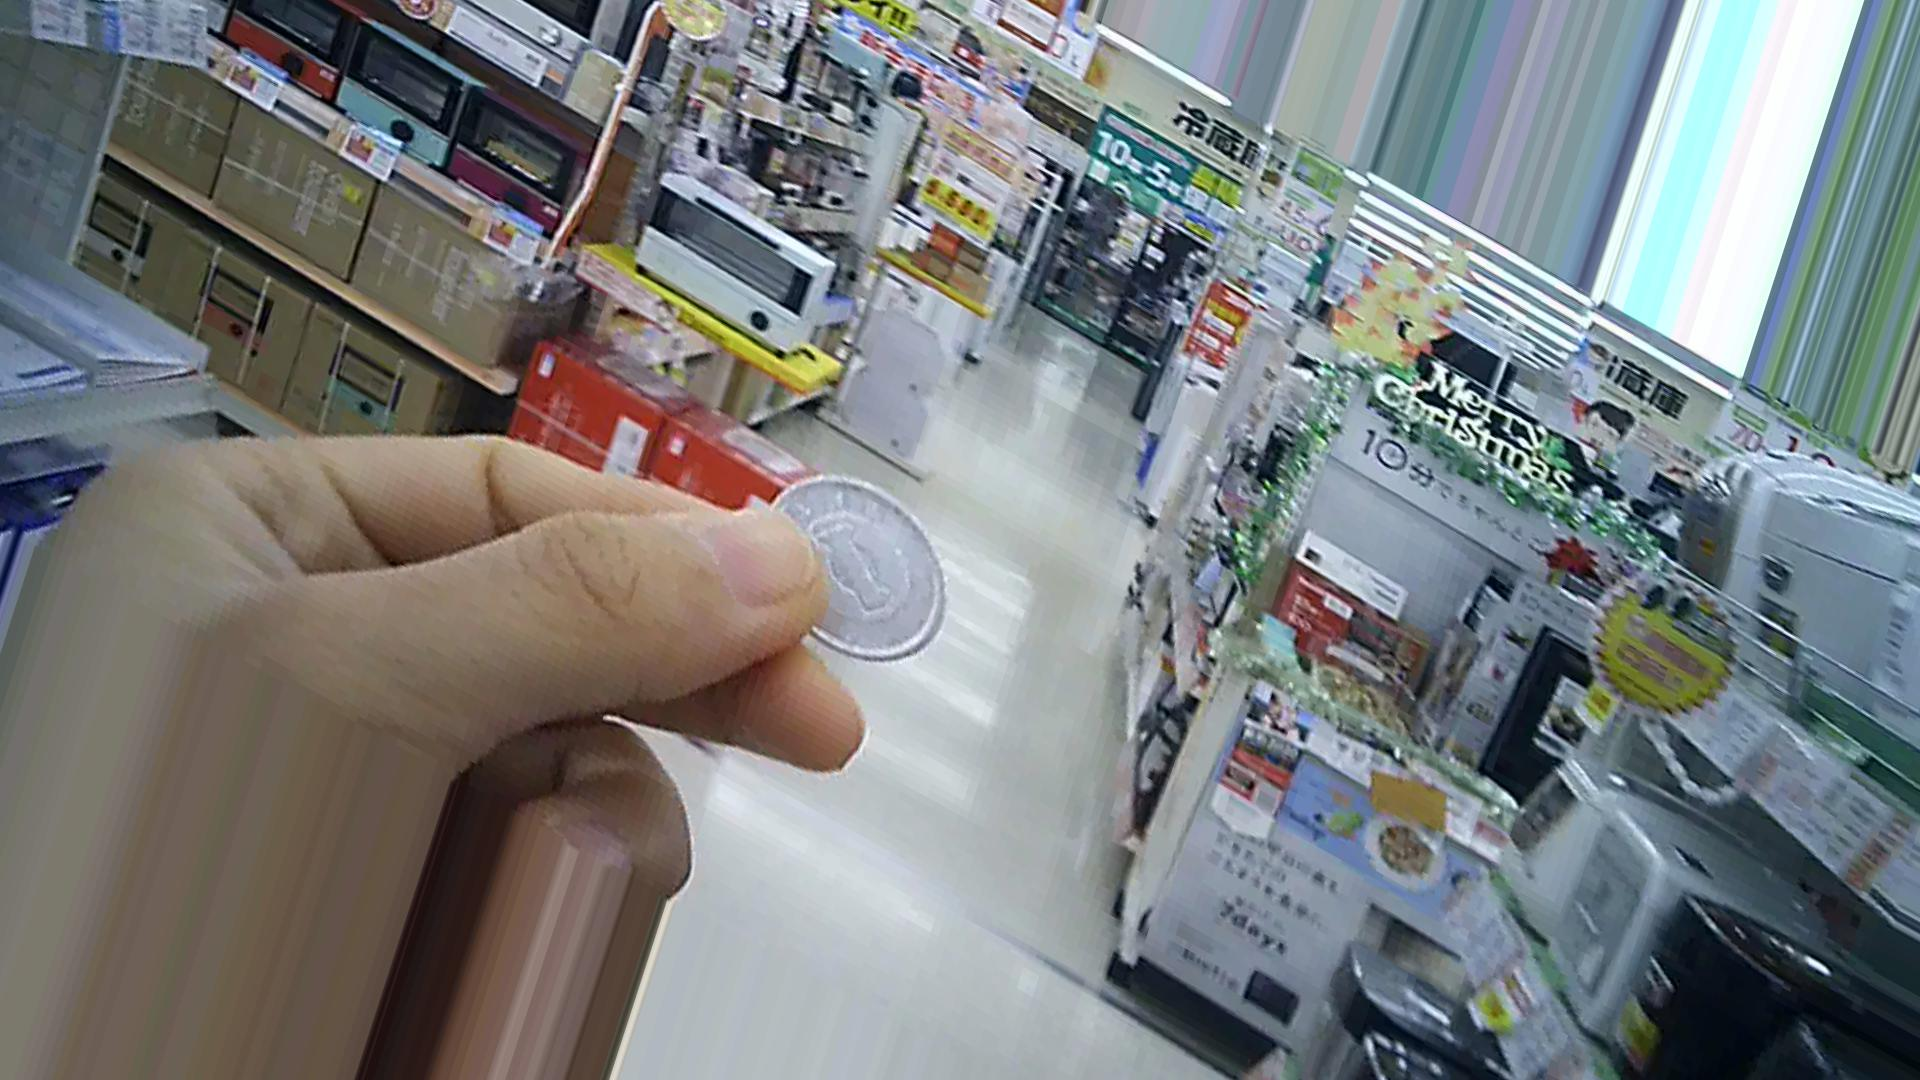1 Yen: (756, 465, 964, 666)
